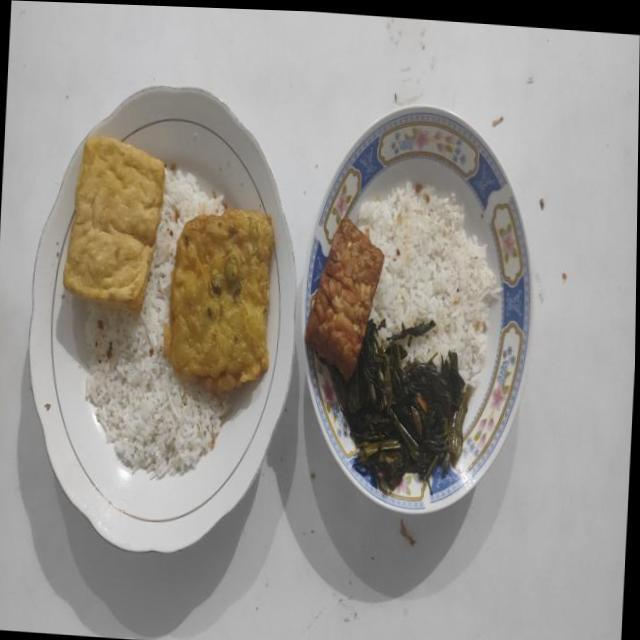nasi_putih: (85, 171, 228, 478), (356, 181, 501, 387)
tahu_goreng: (63, 137, 164, 310)
tempe_goreng: (304, 218, 384, 378)
tumis_kangkung: (317, 320, 468, 490)
